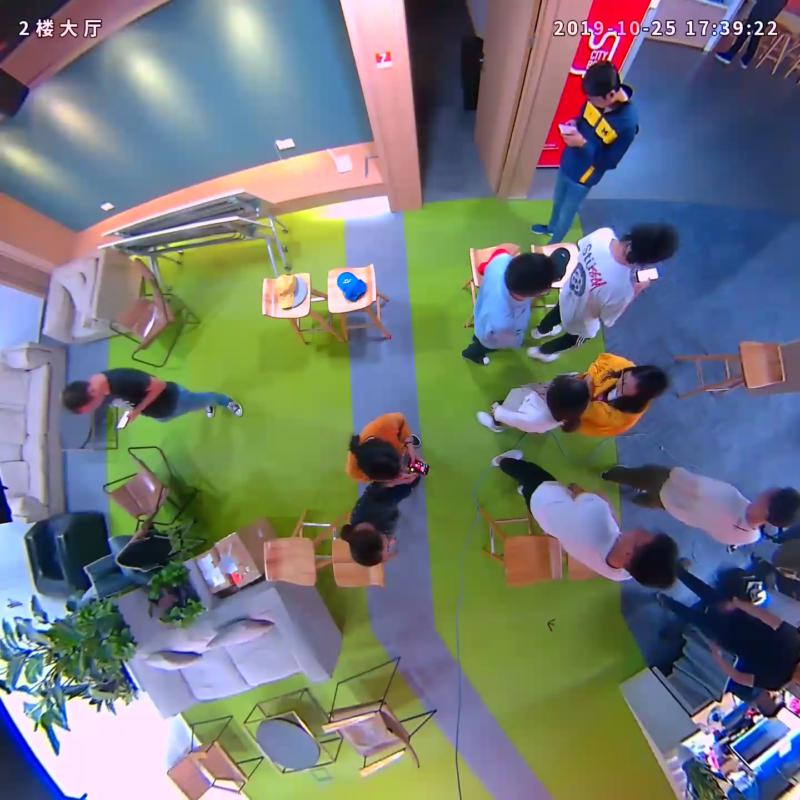head: (619, 528, 679, 590), (504, 253, 554, 301), (622, 220, 676, 264), (547, 373, 590, 423), (580, 59, 621, 110), (754, 486, 800, 530), (354, 437, 401, 480), (615, 364, 666, 401), (62, 379, 107, 414), (347, 525, 384, 567)
